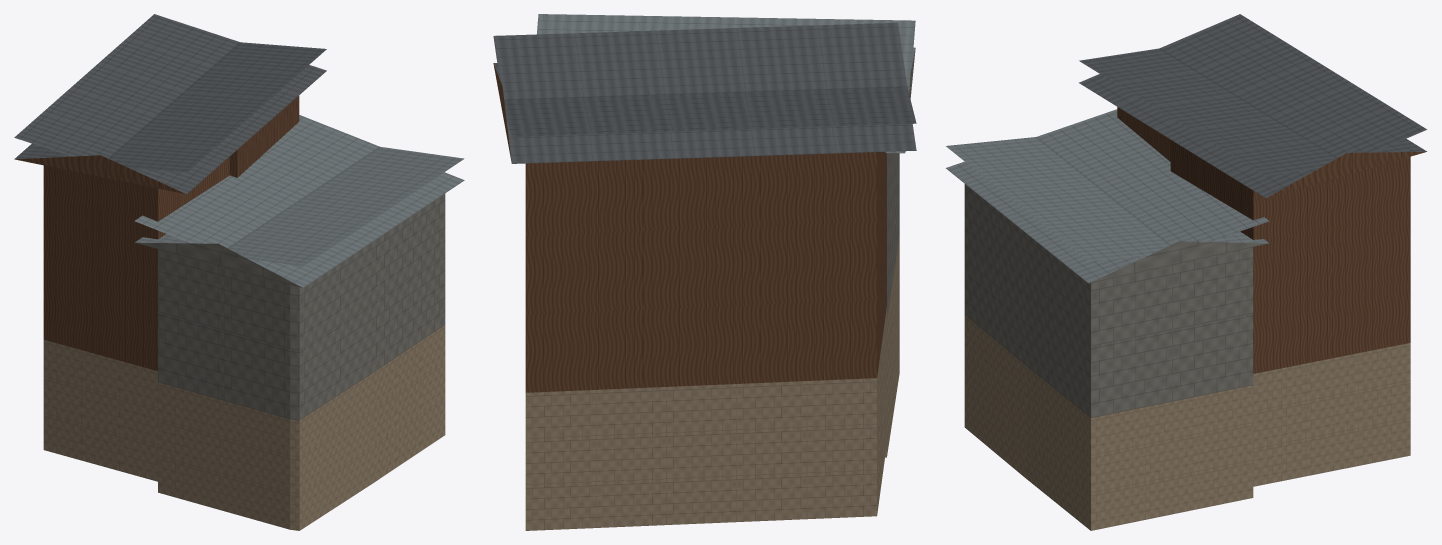
File: bld_c9_16_451.gltf
3 views of the same model, side by side, from view 1: azimuth 30°, elevation 25°; view 2: azimuth 150°, elevation 25°; view 3: azimuth 270°, elevation 25° (orthographic). The views are drawn at different scales.
Parts seen in each view (by area): view 1: bld_c9_16_451; view 2: bld_c9_16_451; view 3: bld_c9_16_451.
Boxes of the visible parts, x1,y1,x2,y2 form: bld_c9_16_451: (14,14,464,530); bld_c9_16_451: (493,14,916,530); bld_c9_16_451: (946,14,1426,530).
Bounding box in the file's own units: 18.2 × 15.3 × 19.75.
7 materials, 7 textured.
